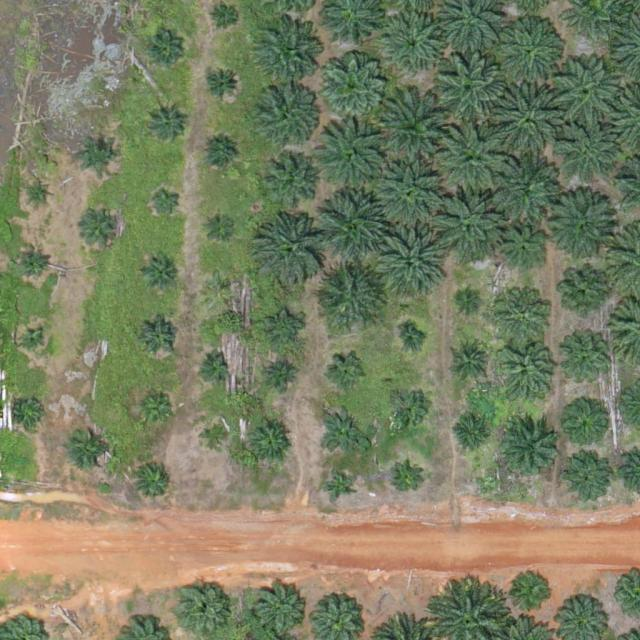Healthy: (378, 91, 456, 170), (252, 212, 330, 291), (494, 86, 565, 157), (485, 149, 556, 220), (317, 52, 388, 123), (545, 194, 616, 264), (432, 187, 502, 258), (375, 158, 445, 229), (374, 226, 444, 297), (319, 124, 389, 195), (319, 190, 390, 260), (555, 56, 625, 127), (436, 54, 506, 125), (253, 21, 323, 92), (439, 123, 509, 193), (314, 262, 384, 332), (497, 418, 560, 481), (499, 22, 562, 85), (384, 14, 447, 76), (257, 83, 319, 146), (253, 584, 308, 639), (175, 582, 230, 637), (494, 288, 549, 343), (499, 346, 554, 401), (263, 156, 318, 211), (560, 128, 614, 183), (563, 340, 610, 388), (565, 454, 612, 502), (498, 227, 545, 274)
Small: (67, 425, 114, 473), (562, 268, 609, 316), (247, 419, 294, 466), (320, 408, 367, 455), (85, 207, 125, 247), (387, 389, 427, 429), (135, 389, 175, 429), (78, 135, 118, 174), (147, 34, 186, 74), (147, 103, 186, 143), (140, 252, 179, 292), (135, 463, 175, 502), (453, 417, 492, 457), (513, 572, 553, 611), (201, 135, 240, 175), (203, 65, 242, 105), (140, 318, 179, 357), (265, 310, 304, 349), (563, 406, 602, 445), (330, 353, 369, 392), (391, 466, 422, 498), (269, 359, 300, 391), (325, 471, 356, 503), (205, 209, 236, 241), (205, 269, 236, 301), (198, 350, 229, 382), (152, 185, 183, 217), (17, 397, 48, 428), (455, 346, 486, 377), (201, 423, 232, 454), (18, 246, 49, 277), (211, 3, 242, 34), (460, 290, 484, 314), (29, 182, 53, 206), (22, 331, 46, 355), (401, 329, 424, 353)
